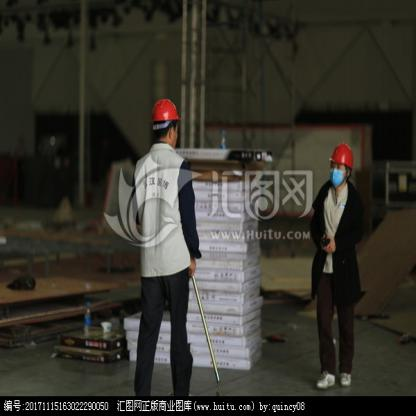helmet: (152, 94, 184, 125), (327, 150, 354, 172)
no-vest: (312, 178, 361, 308)
person: (311, 144, 363, 392)
